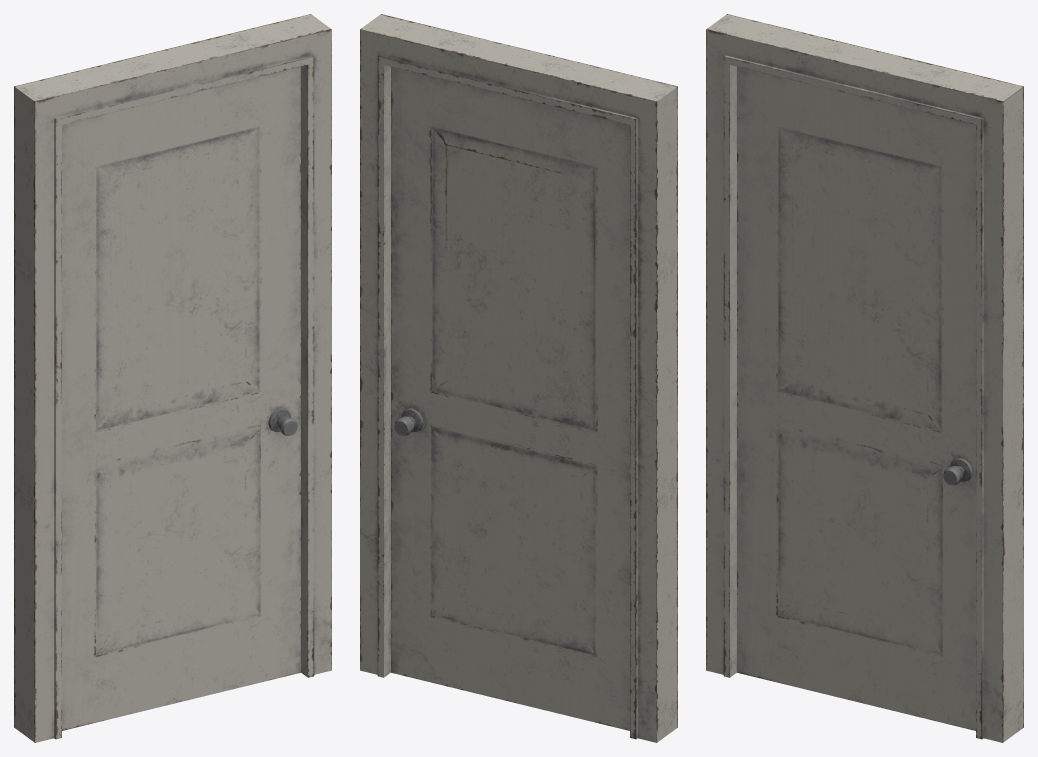
The picture shows the model from 3 angles, left to right: view 1: azimuth 30°, elevation 25°; view 2: azimuth 150°, elevation 25°; view 3: azimuth 330°, elevation 25°; orthographic projection.
Visible parts, largest first — view 1: Door_low.002_Door_0; view 2: Door_low.002_Door_0; view 3: Door_low.002_Door_0.
Boxes of the visible parts, <box> form: Door_low.002_Door_0: <box>14,14,331,742</box>; Door_low.002_Door_0: <box>360,14,677,742</box>; Door_low.002_Door_0: <box>706,14,1023,742</box>.
Size of the model in its own units: 9.7 by 20.03 by 1.85.
1 material, 1 textured.
